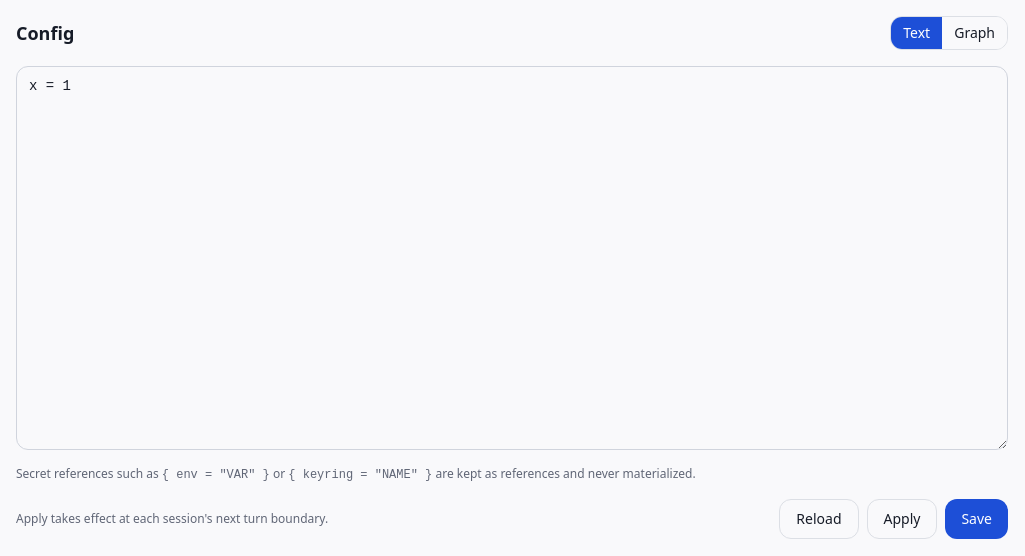
it: ConfigEditor › shows the graph placeholder without editing controls
Step 1. Click the tab "Graph" → coordinates (975, 33), box [942,17,1007,49]
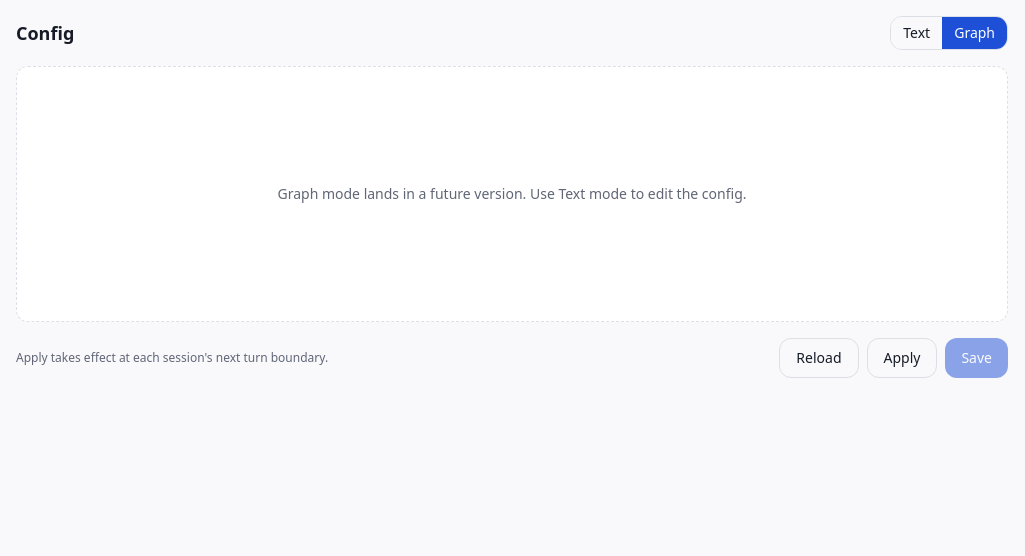
Expected: the text "Graph mode lands in a future version" is shown, [278,184,746,203]
Expected: the text box is gone
Expected: the button "Save" is disabled, [945,338,1008,378]
Step 2. Click the tab "Text" → coordinates (917, 33), box [891,17,942,49]
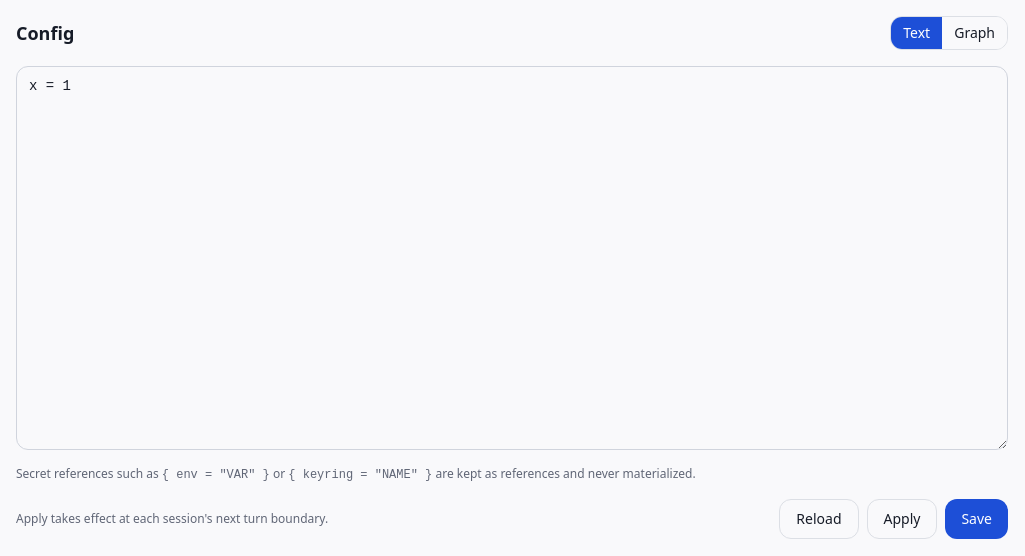
Expected: the text box is shown
